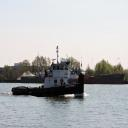tugboat: (11, 47, 86, 100)
